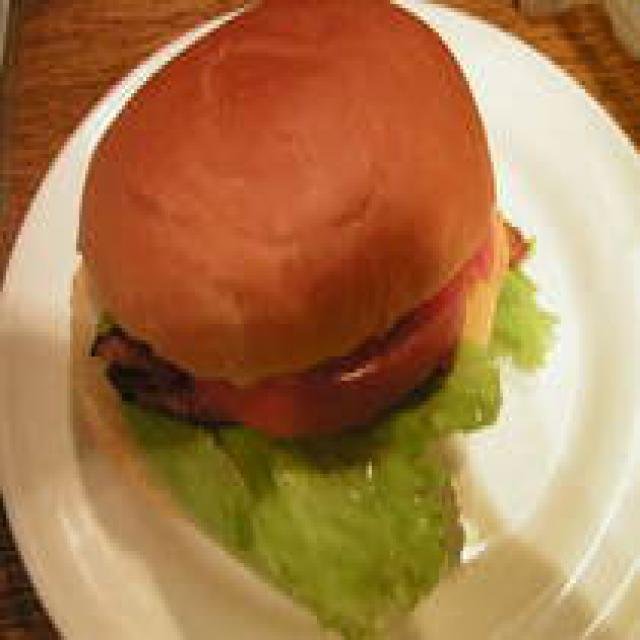hamburger: (64, 0, 527, 636)
